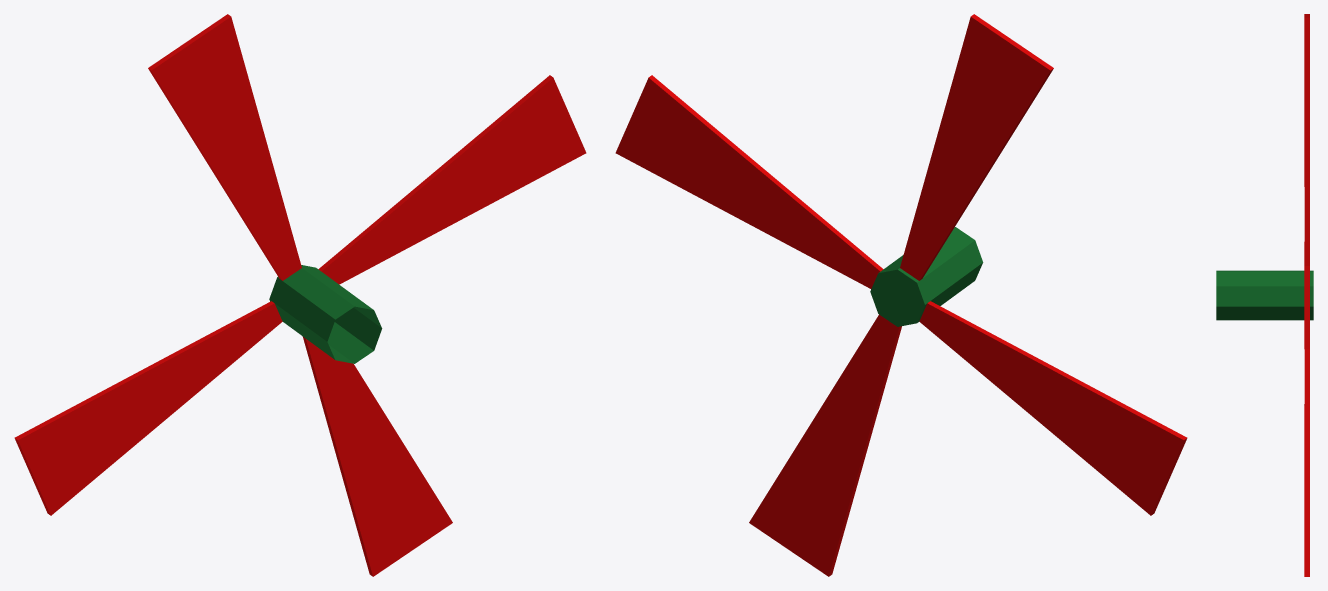
Rendered from Windmill_Blades.fbx.
3 views of the same model, side by side, from view 1: azimuth 30°, elevation 25°; view 2: azimuth 150°, elevation 25°; view 3: azimuth 270°, elevation 25° (orthographic). The views are drawn at different scales.
Visible parts, largest first — view 1: Windmill_Blades; view 2: Windmill_Blades; view 3: Windmill_Blades.
Boxes of the visible parts, x1=… form: Windmill_Blades: x1=14, y1=14, x2=586, y2=576; Windmill_Blades: x1=615, y1=14, x2=1187, y2=576; Windmill_Blades: x1=1216, y1=14, x2=1313, y2=576.
Size of the model in its own units: 311 by 311 by 55.16.
